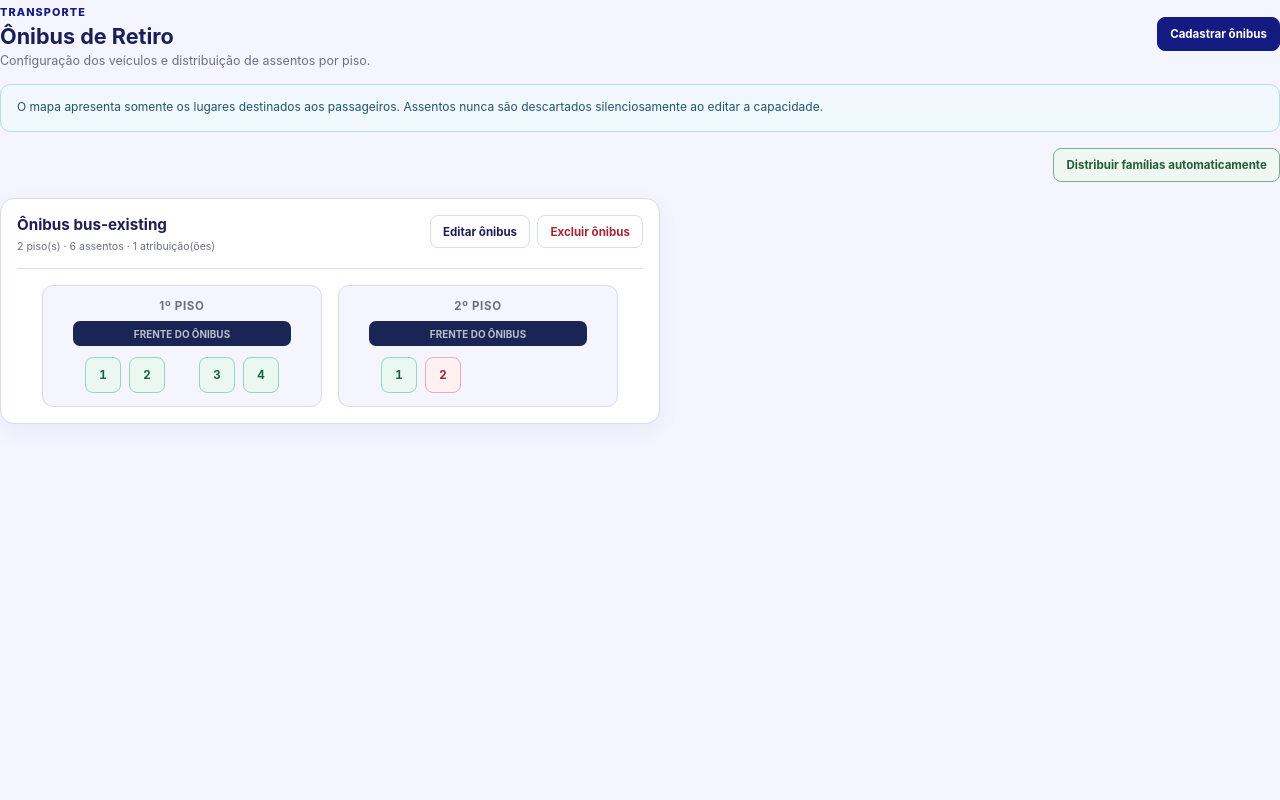
Scenario: BusManagementPage › exclui ônibus com confirmação e limpa somente seus assentos
Click the button "Excluir ônibus".
click(590, 232)  # box [537,215,643,248]
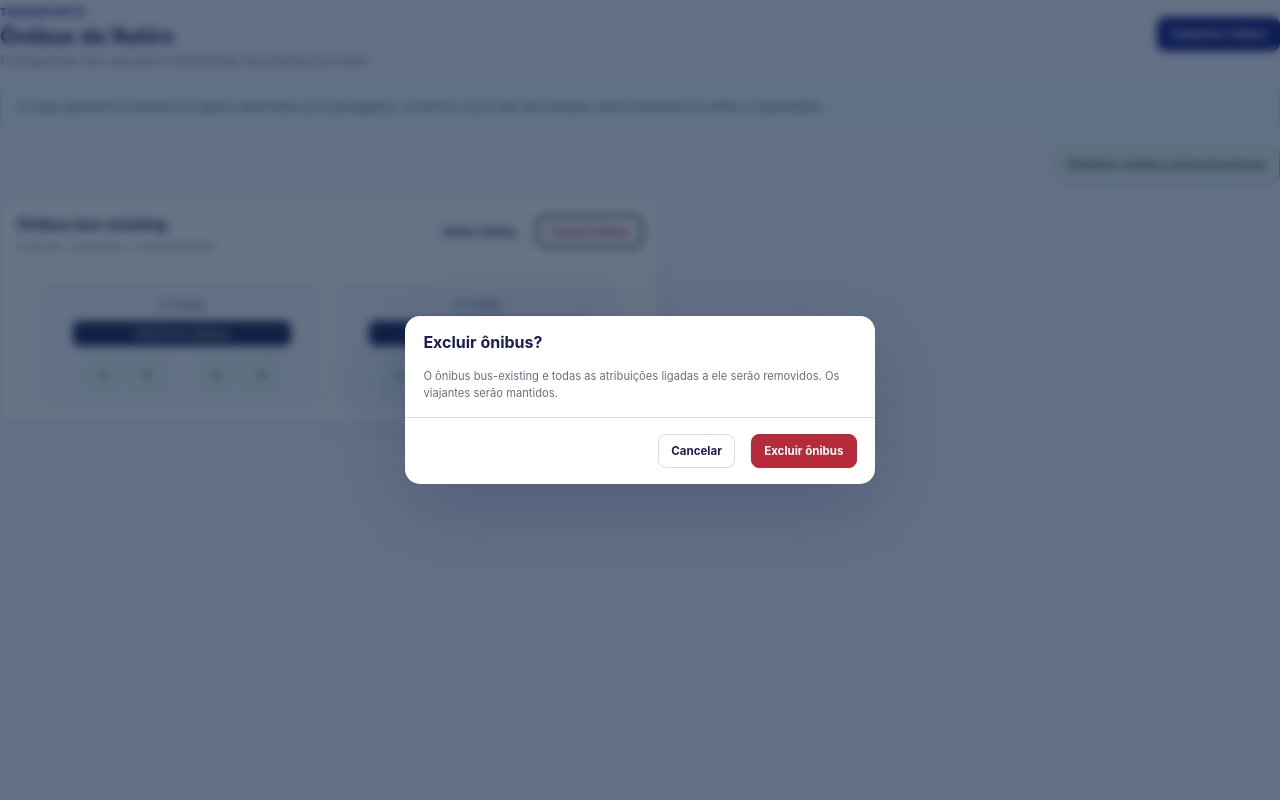
Click the button "Excluir ônibus".
click(804, 451)  # box [751,434,857,468]
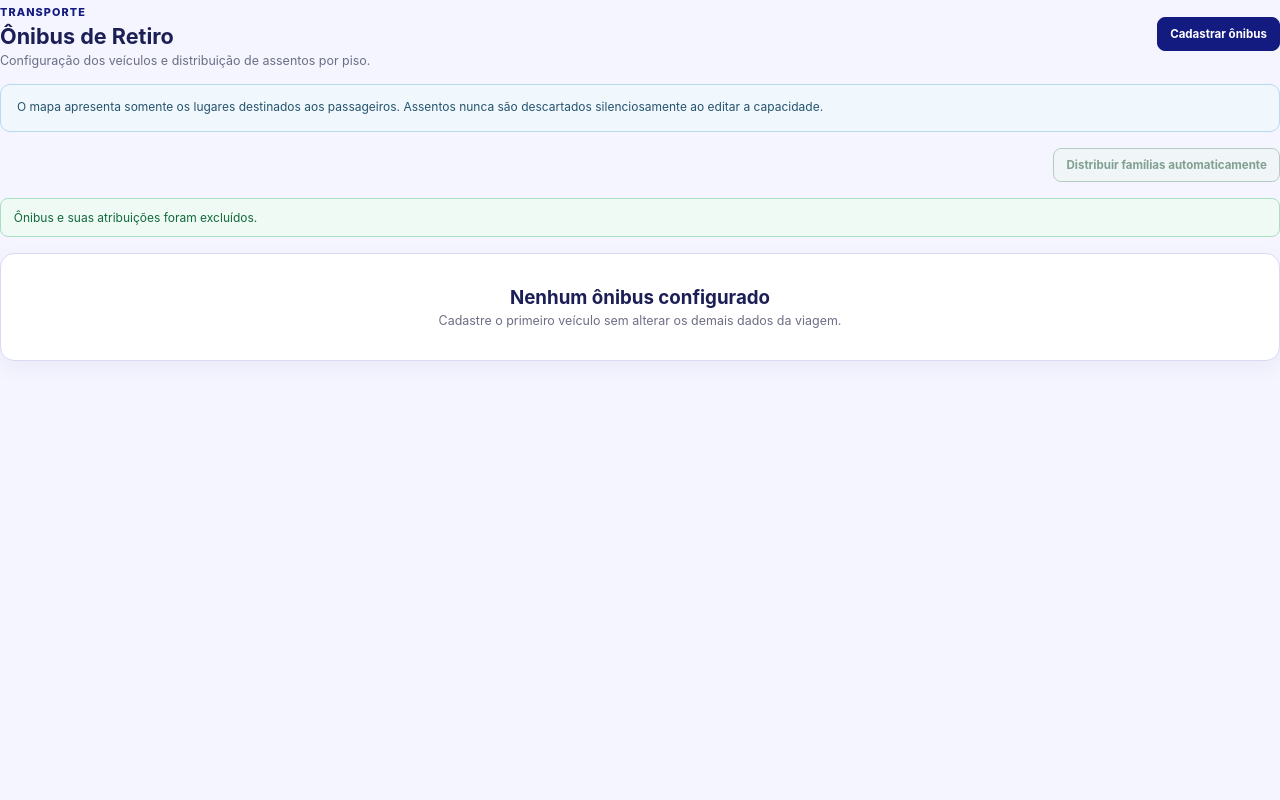
Now the heading "Nenhum ônibus configurado" is shown, box [510,286,770,309]
